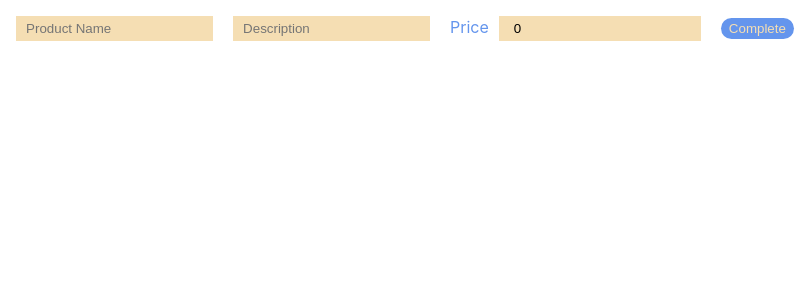
Test: AddProduct tests › AddProduct add test
Click the button "Complete".
click(757, 28)  # box top-left (721, 18), bottom-right (794, 38)
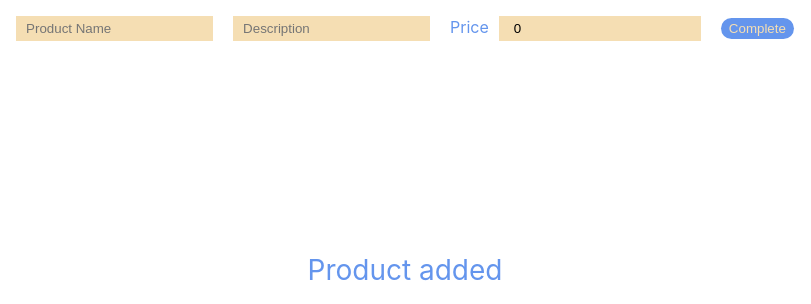
Expected: the text "Product added" is shown, top-left (308, 253), bottom-right (502, 287)
